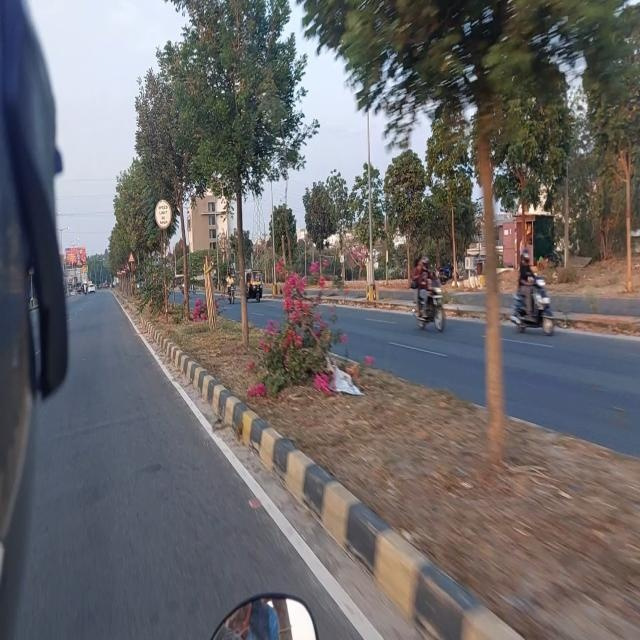bien_nguy_hiem: (154, 198, 172, 229)
